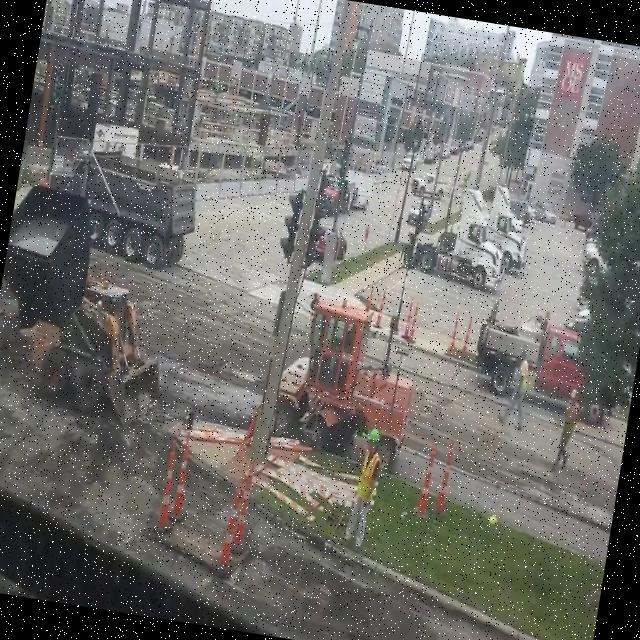Dump Truck: (36, 128, 208, 274), (466, 297, 620, 428)
Loader: (19, 265, 178, 437)
Roller: (267, 290, 423, 474)
